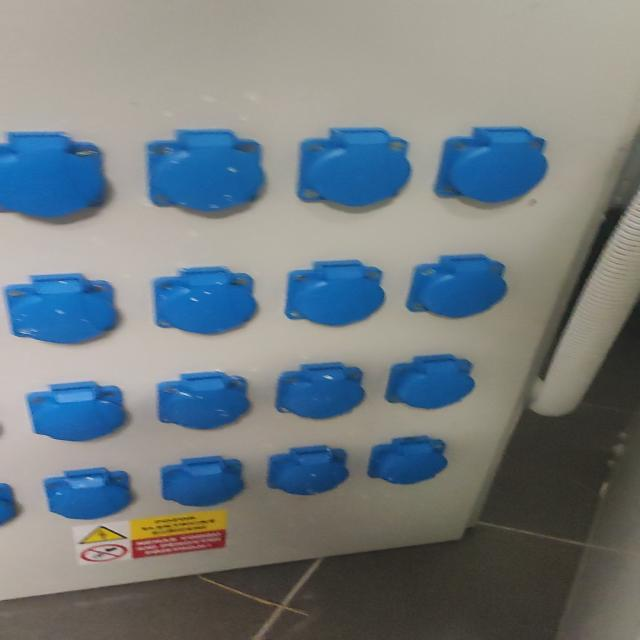house plug covered: (142, 127, 270, 223), (296, 127, 414, 216), (0, 132, 110, 224), (434, 126, 550, 210), (2, 274, 122, 348), (152, 267, 255, 336), (284, 260, 386, 327), (412, 256, 508, 319), (25, 383, 124, 443), (156, 373, 247, 432), (276, 362, 366, 420), (385, 355, 475, 412), (42, 467, 130, 520), (161, 459, 244, 508), (367, 435, 448, 484), (268, 450, 346, 497)
